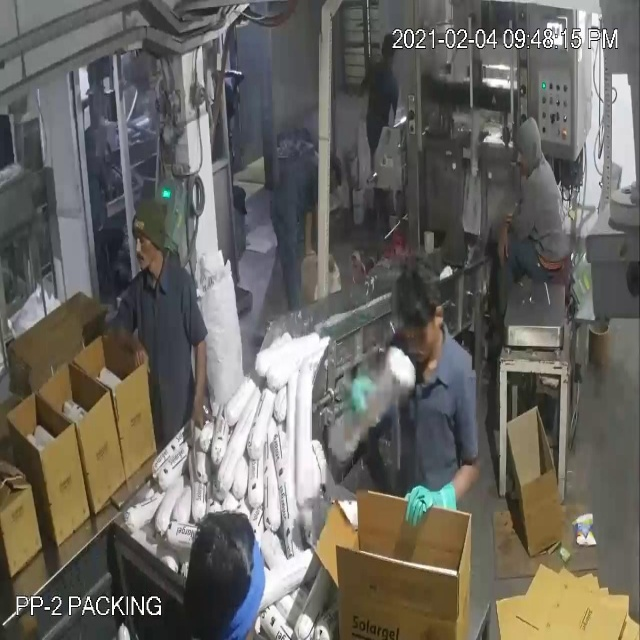Guantes: (403, 474, 474, 540), (344, 368, 380, 430)
Sin_guantes: (179, 315, 214, 459), (102, 303, 155, 393), (494, 197, 527, 277)
